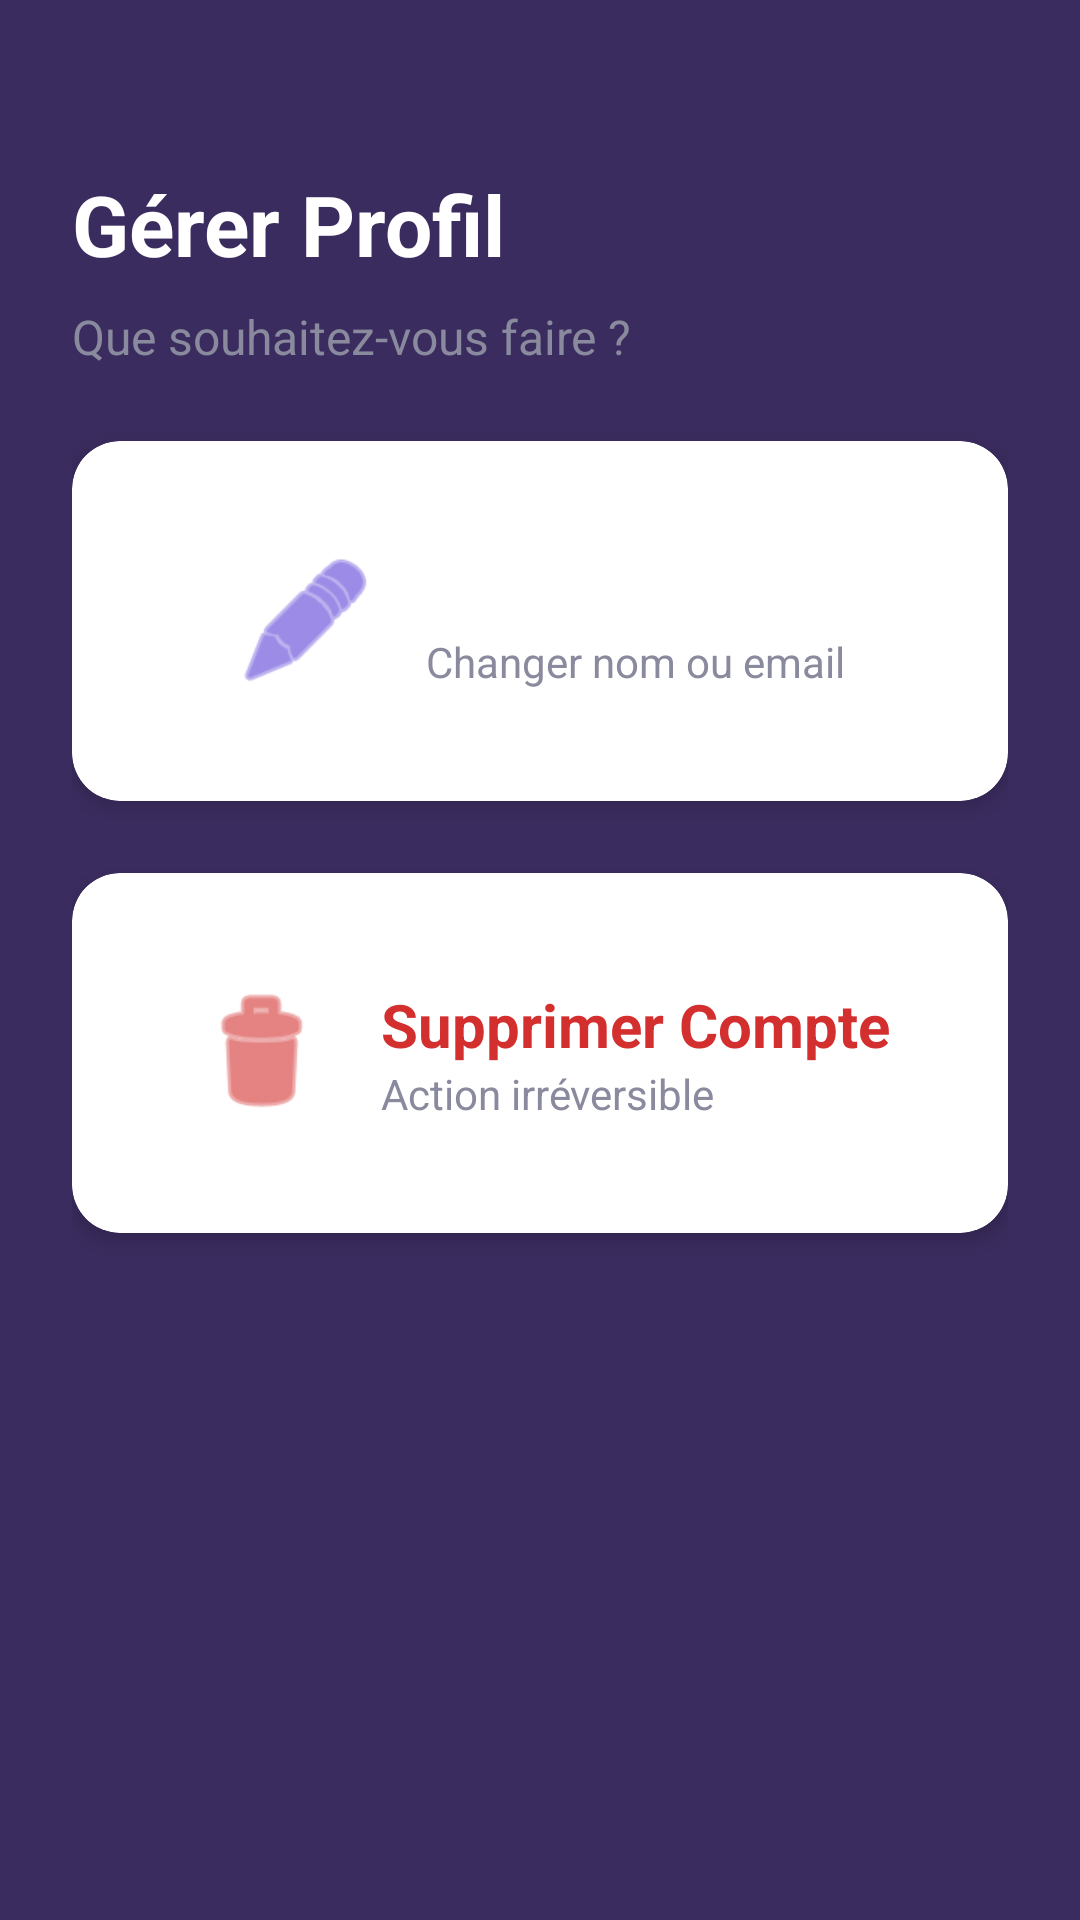

Icons on this 1080x1920 Android screen, each with its box as (x1, y1, x2, y2):
delete: (221, 994, 302, 1107)
edit: (245, 559, 366, 681)
